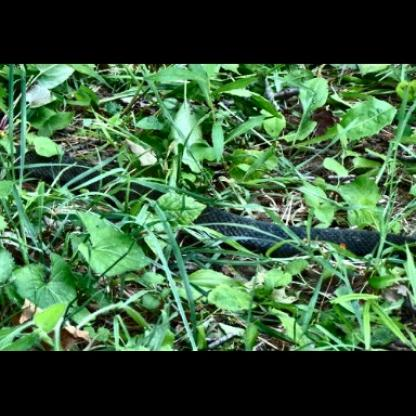Snake: (3, 139, 416, 264)
